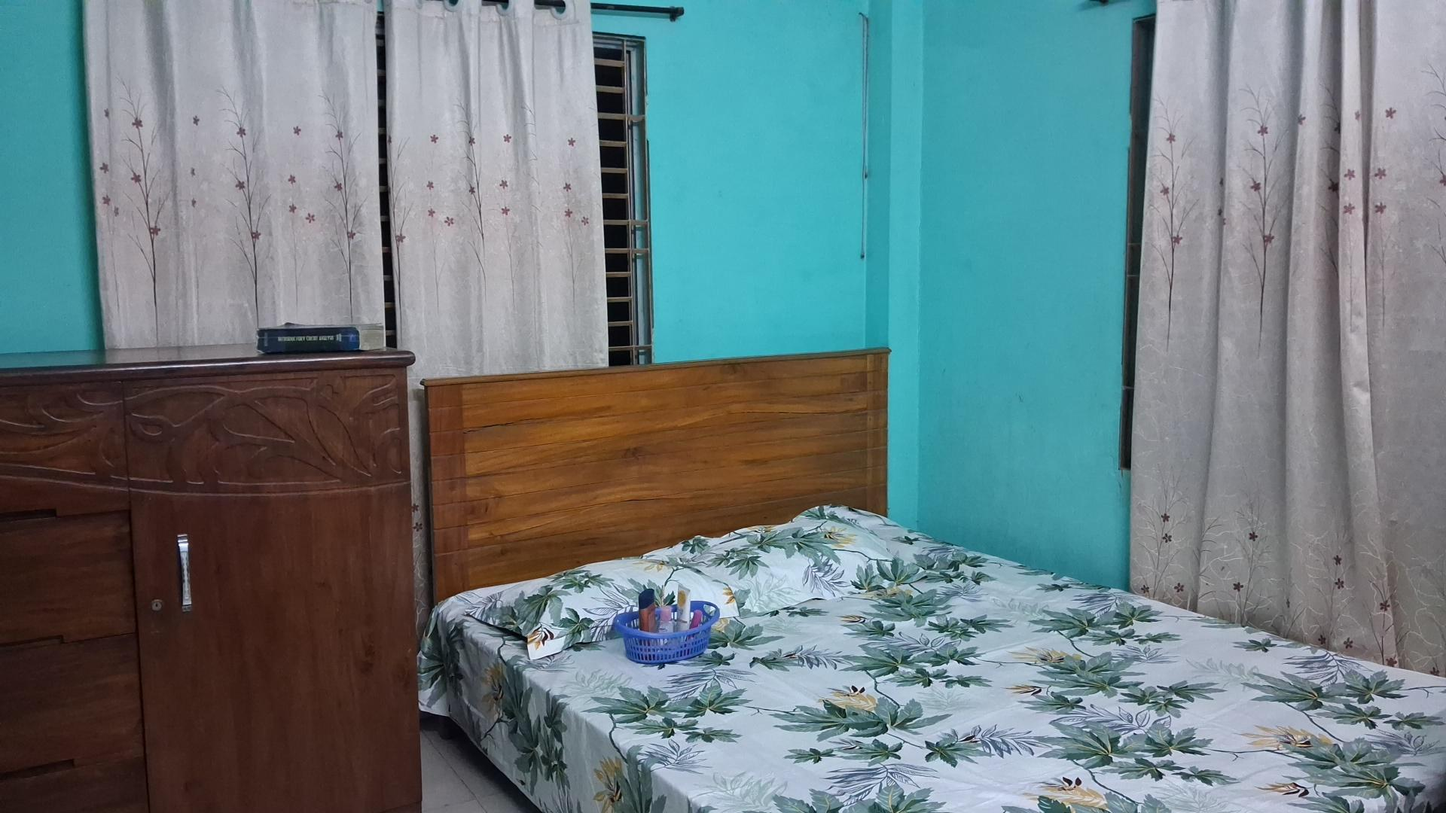Basket: (619, 584, 715, 662)
Book: (268, 304, 389, 356)
Pillow: (679, 517, 929, 612)
